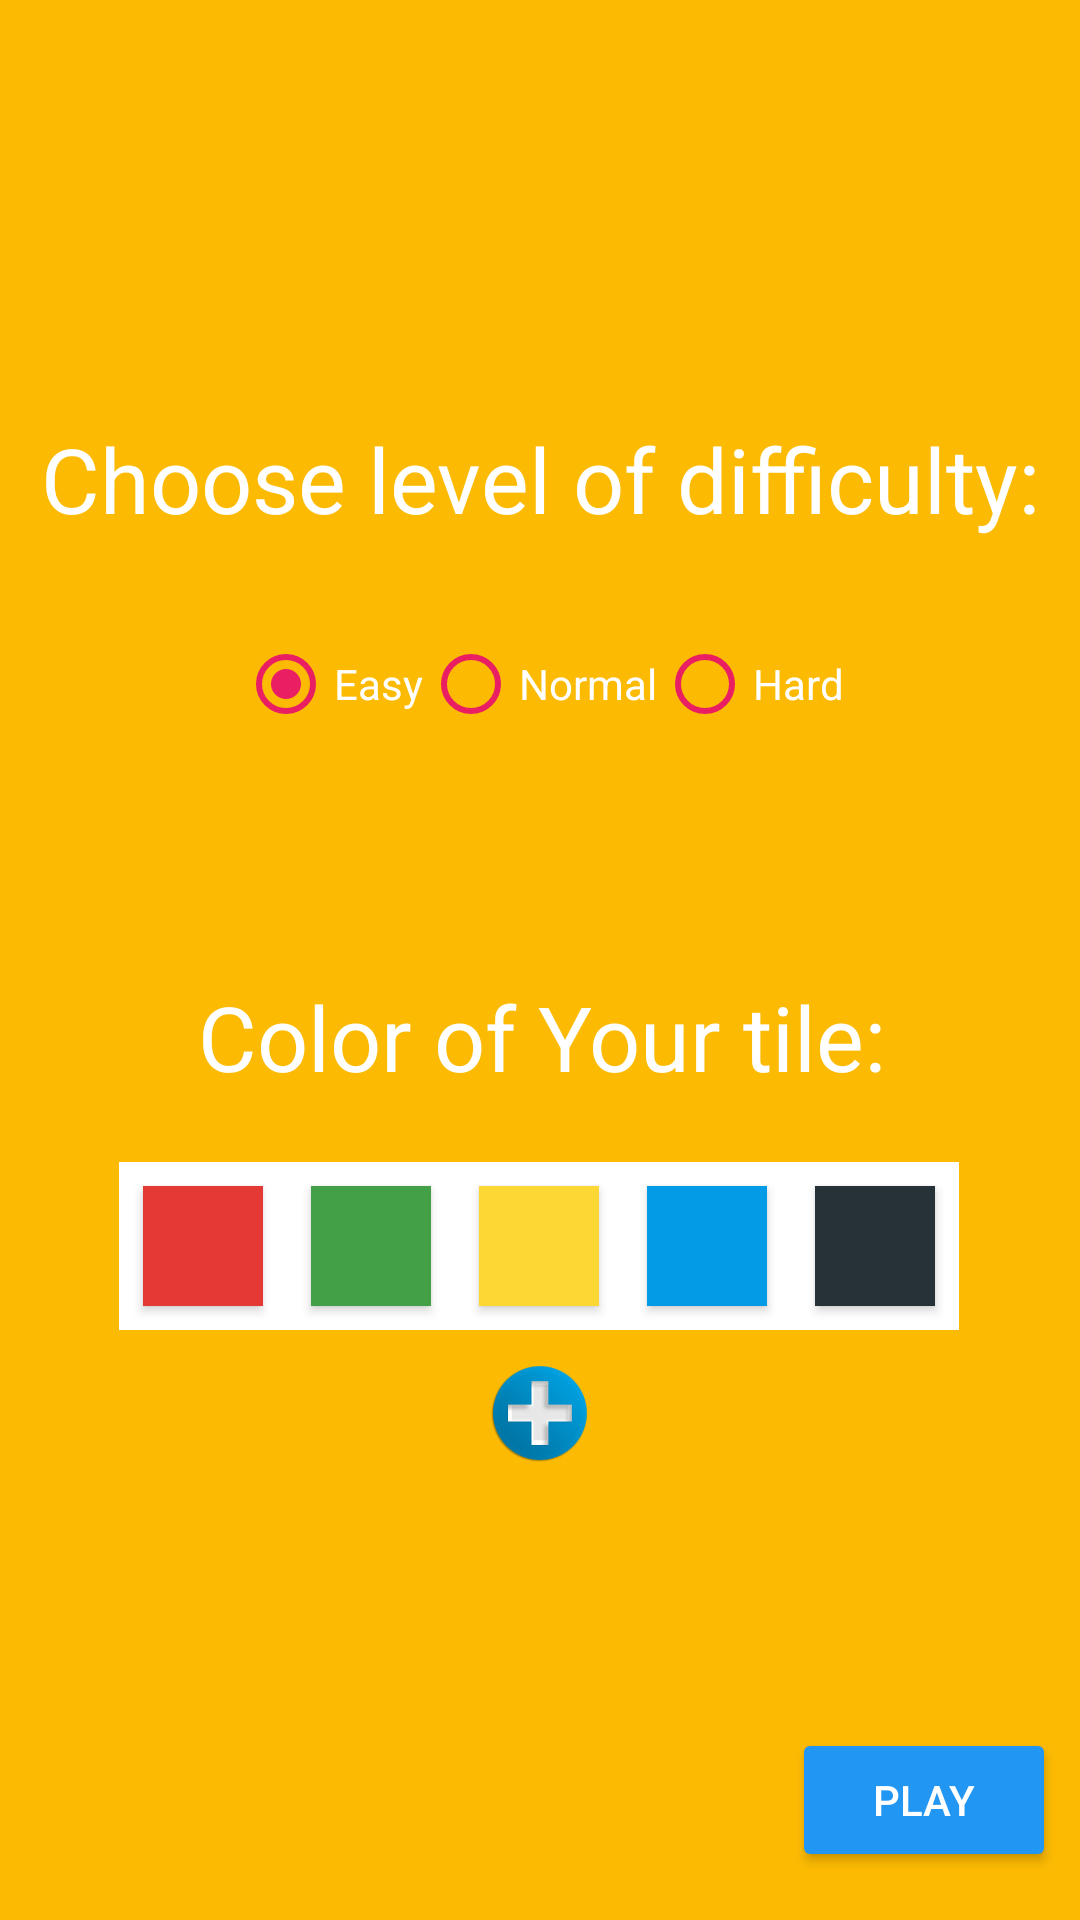

Screen size 1080 x 1920. Icon name, then its center in pixels as [x,y]:
plus sign: [539,1413]
